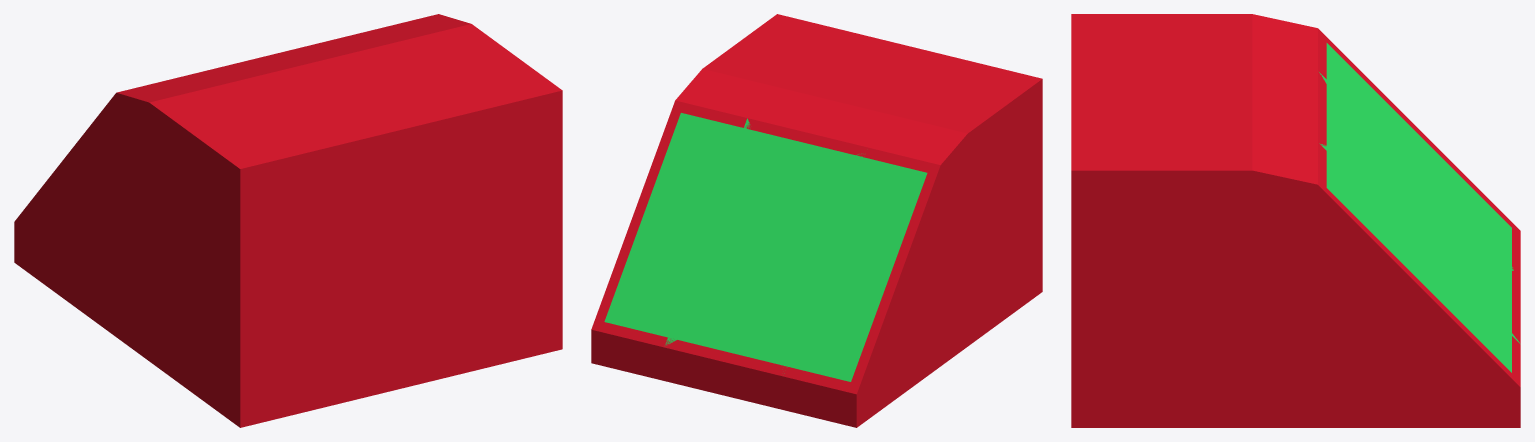
Rendered from CockPit.fbx.
The picture shows the model from 3 angles, left to right: view 1: azimuth 30°, elevation 25°; view 2: azimuth 150°, elevation 25°; view 3: azimuth 270°, elevation 25°; orthographic projection. The views are drawn at different scales.
Parts seen in each view (by area): view 1: Cube.001; view 2: Cube.001; view 3: Cube.001.
Part boxes in pixels (left/top/right/bottom): Cube.001: left=14, top=14, right=562, bottom=427; Cube.001: left=591, top=14, right=1042, bottom=427; Cube.001: left=1071, top=14, right=1520, bottom=427.
Size of the model in its own units: 276 by 212 by 335.
